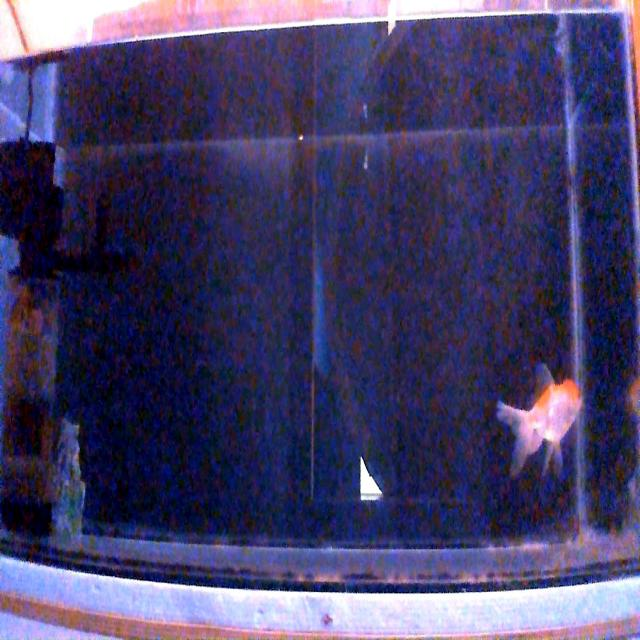fish: (496, 366, 584, 481), (624, 375, 640, 421)
